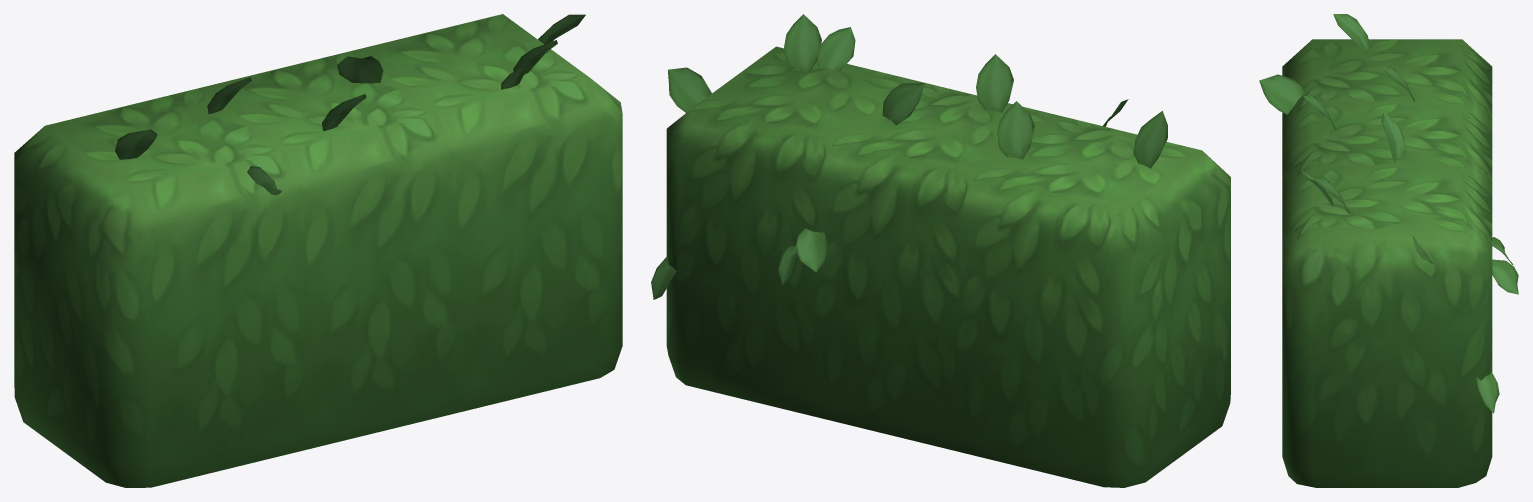
The model's file is bush_3x.fbx.
3 renders of one model, left to right at view 1: azimuth 30°, elevation 25°; view 2: azimuth 150°, elevation 25°; view 3: azimuth 270°, elevation 25°, orthographic. The views are drawn at different scales.
Parts seen in each view (by area): view 1: Bush_3x; view 2: Bush_3x; view 3: Bush_3x.
Part boxes in pixels (x1=…): Bush_3x: x1=14, y1=14, x2=622, y2=487; Bush_3x: x1=651, y1=14, x2=1230, y2=487; Bush_3x: x1=1259, y1=14, x2=1518, y2=487.
Size of what is drawn, in the model's own units: 81.55 by 47.68 by 39.36.
